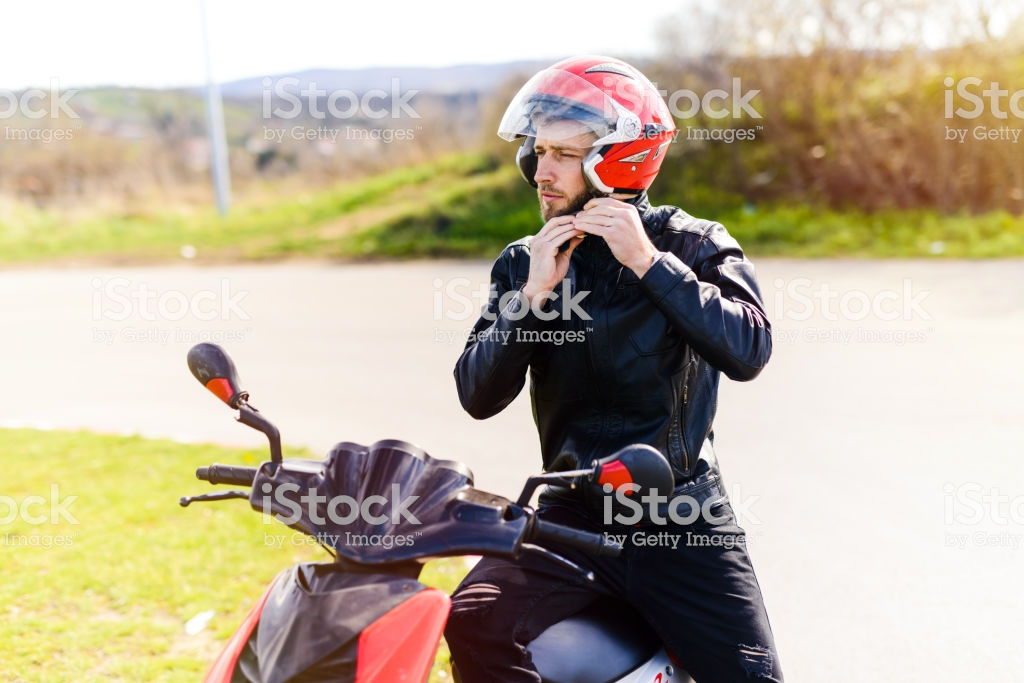helmet: (520, 64, 660, 199)
